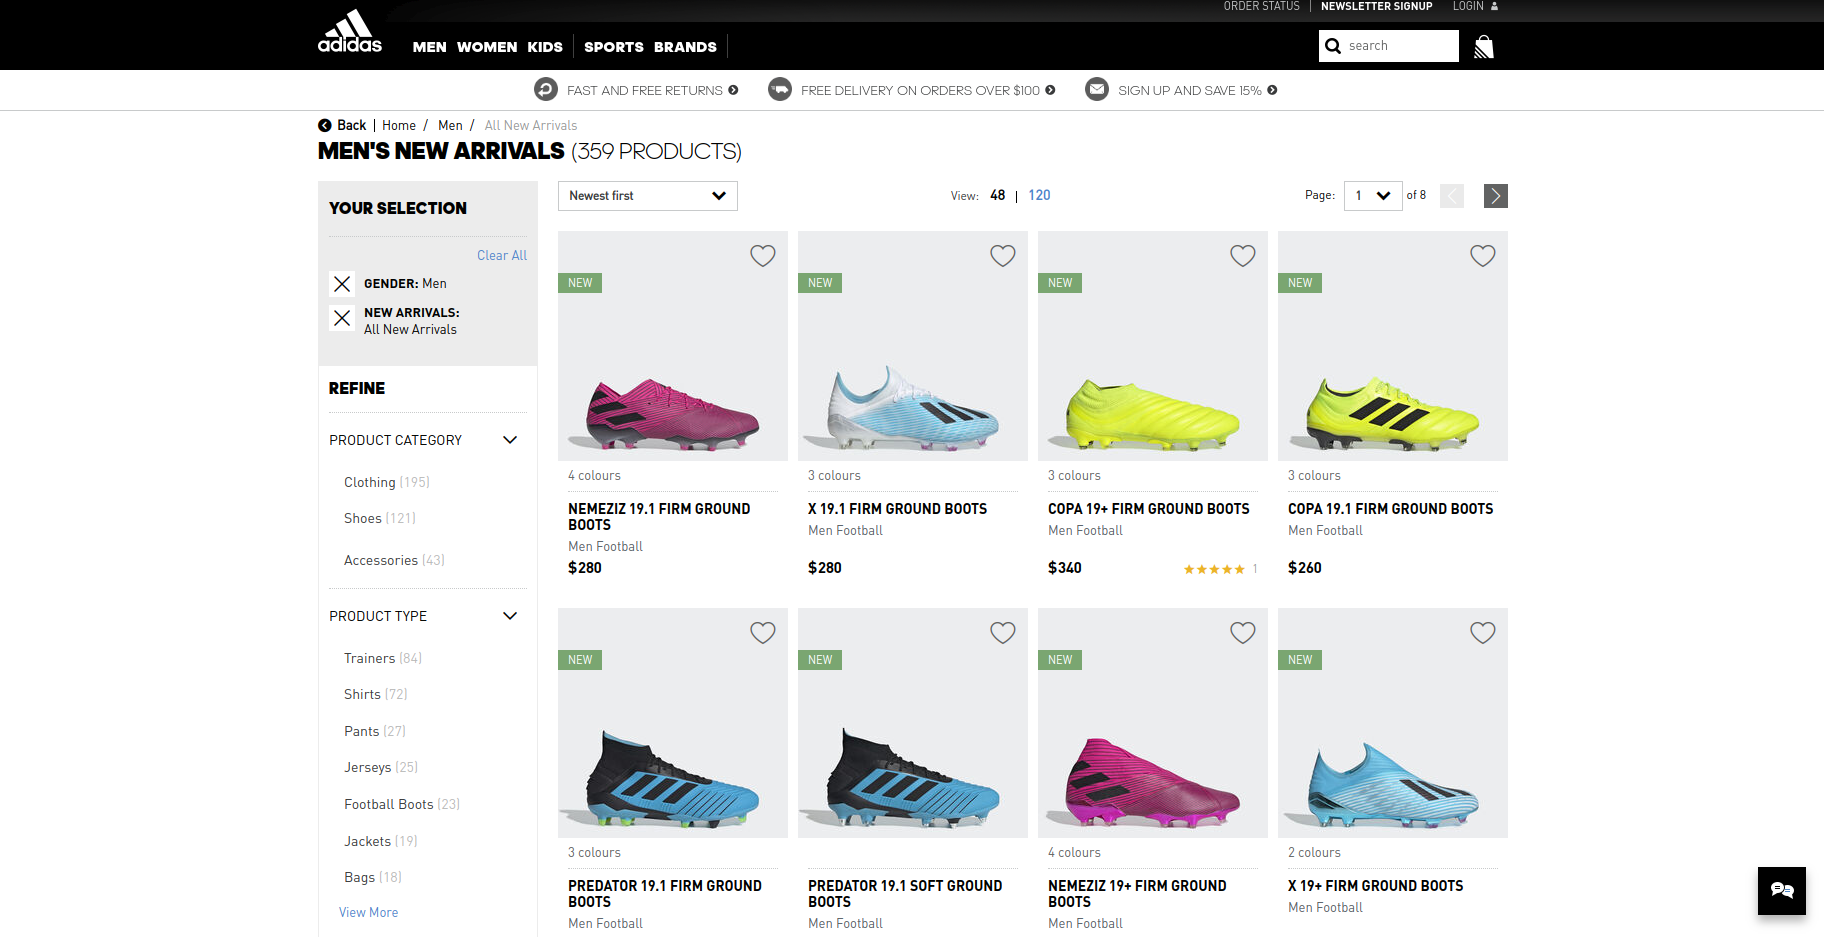Adidas: (297, 4, 399, 57), (1344, 388, 1439, 445), (852, 768, 947, 813)
